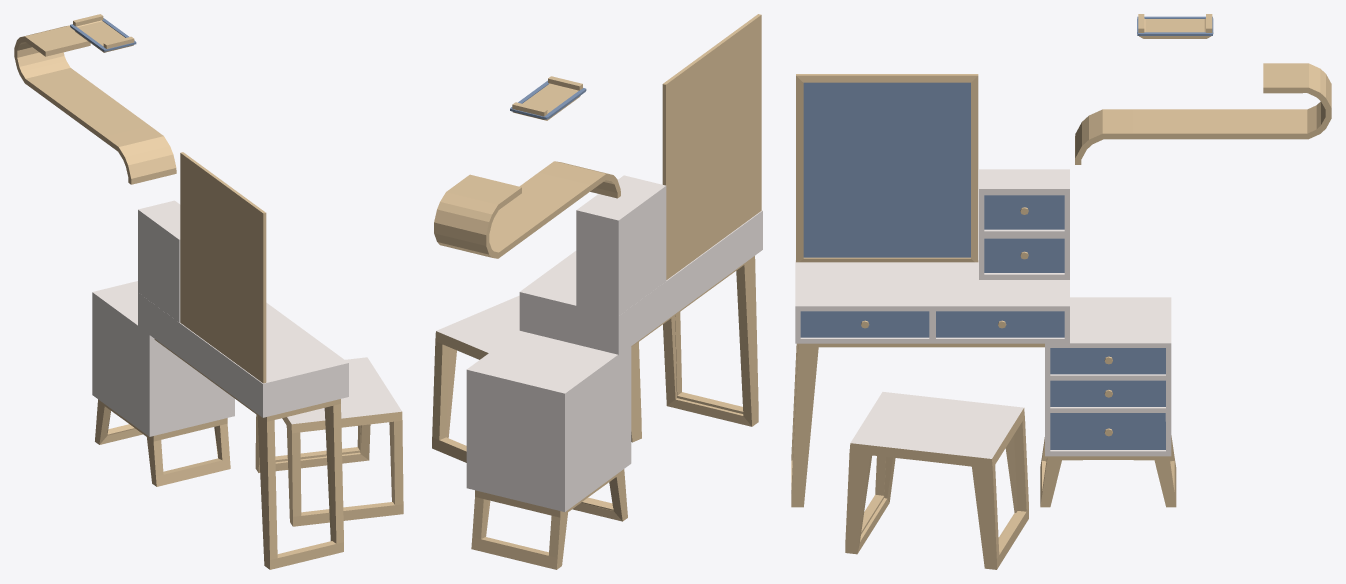
Rendered from Furn6_playzone_color1_joined.fbx.
3 renders of one model, left to right at view 1: azimuth 30°, elevation 25°; view 2: azimuth 150°, elevation 25°; view 3: azimuth 270°, elevation 25°, orthographic. The views are drawn at different scales.
Parts seen in each view (by area): view 1: полочки.001; view 2: полочки.001; view 3: полочки.001.
Boxes of the visible parts, <box> form: полочки.001: <box>14,14,403,569</box>; полочки.001: <box>432,14,762,569</box>; полочки.001: <box>791,14,1331,569</box>.
Size of the model in its own units: 218 by 429 by 465.
